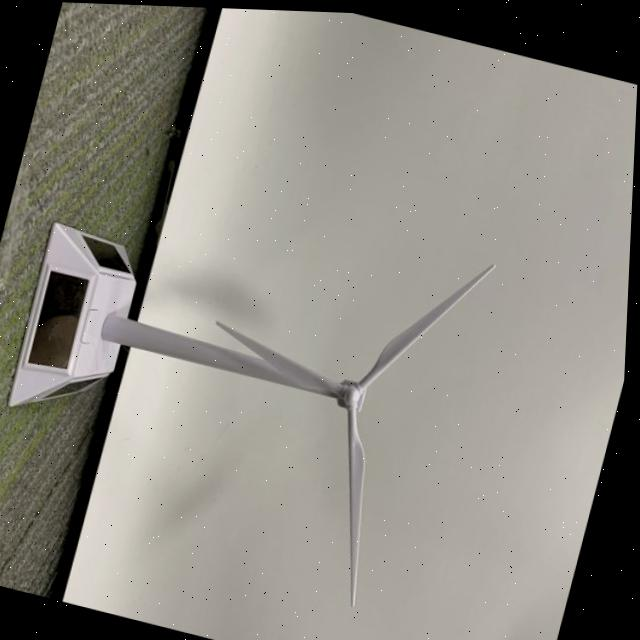solid-blade: (361, 260, 495, 387), (218, 319, 343, 391), (351, 406, 368, 603)
